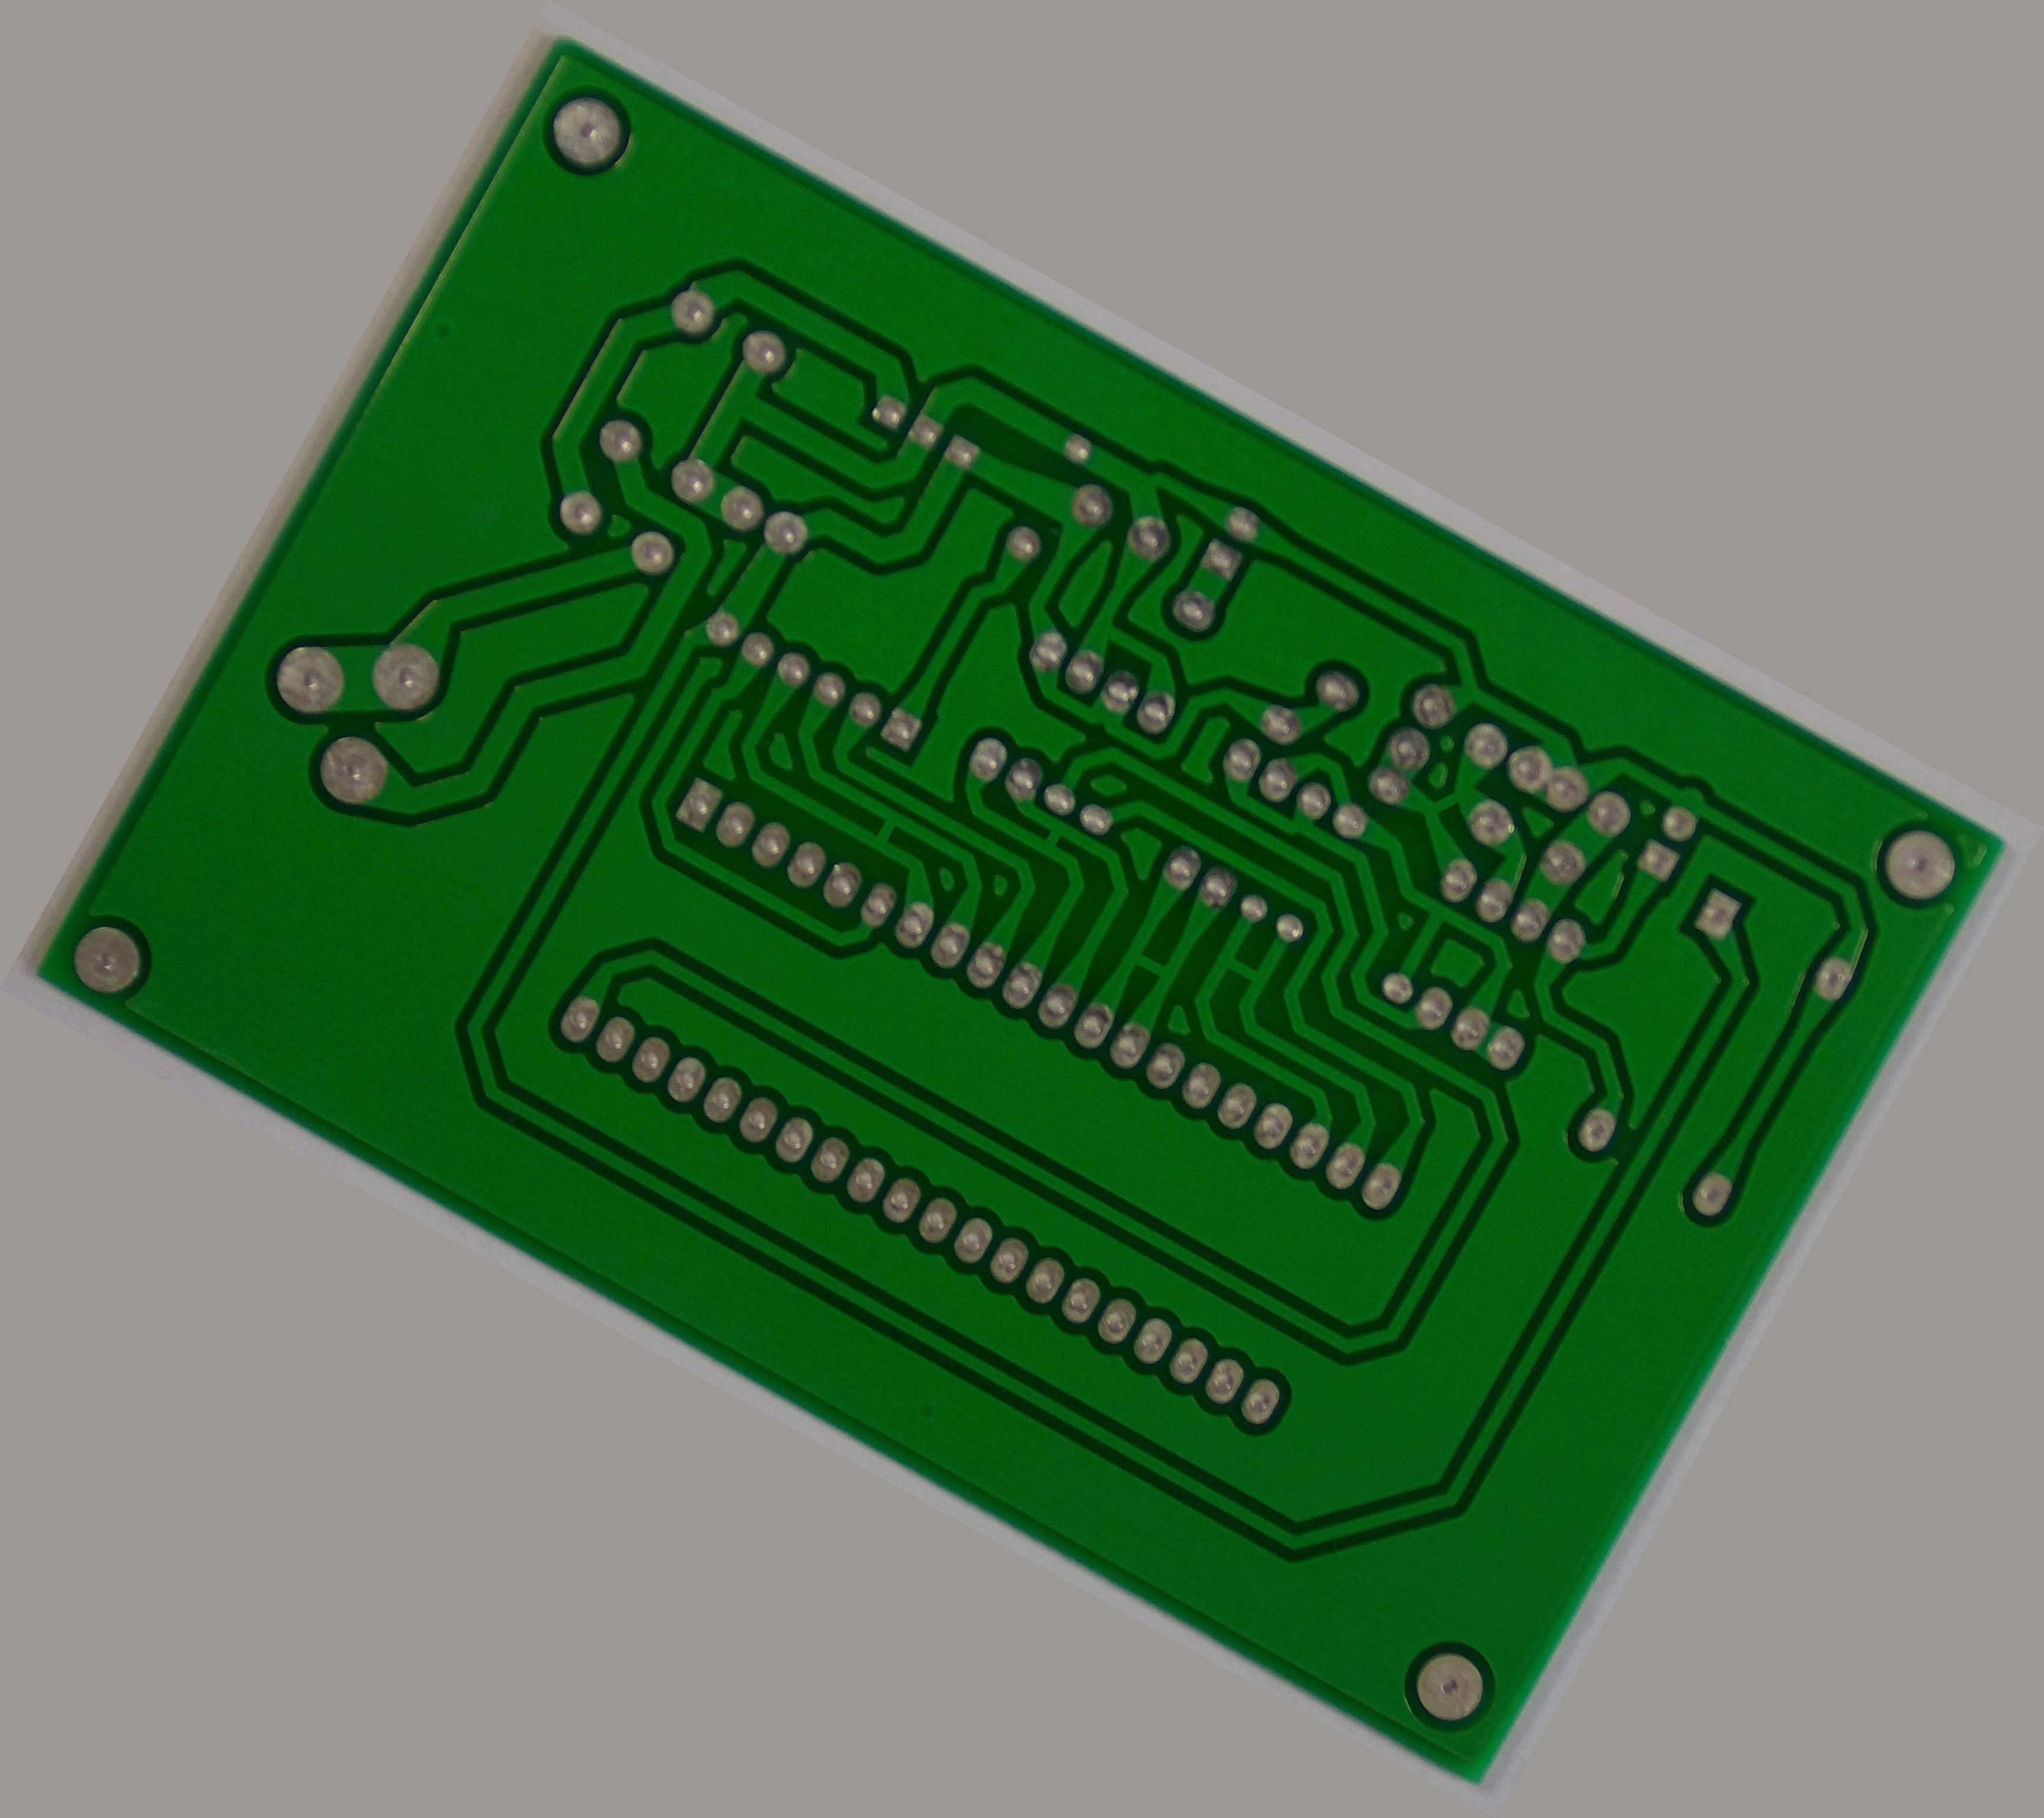short: (1411, 756, 1491, 844), (1105, 930, 1190, 1006), (847, 795, 923, 867), (1016, 804, 1090, 876), (1205, 937, 1277, 1002)
